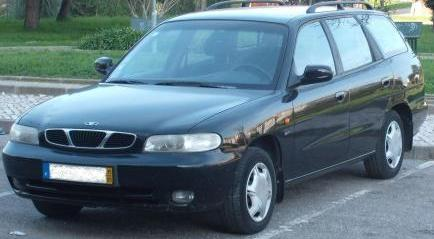front_view: (9, 106, 258, 210)
headlight: (141, 128, 234, 161)
side_glass: (289, 21, 379, 85)
